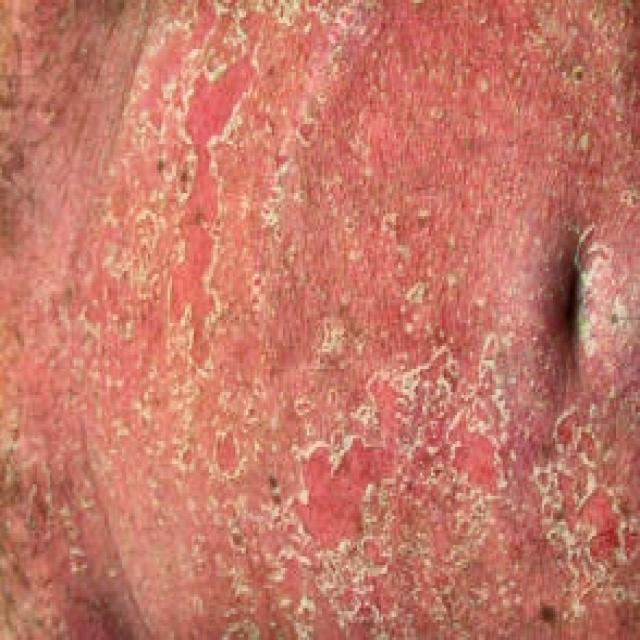Atopic-Dermatitis: (87, 49, 635, 586)
